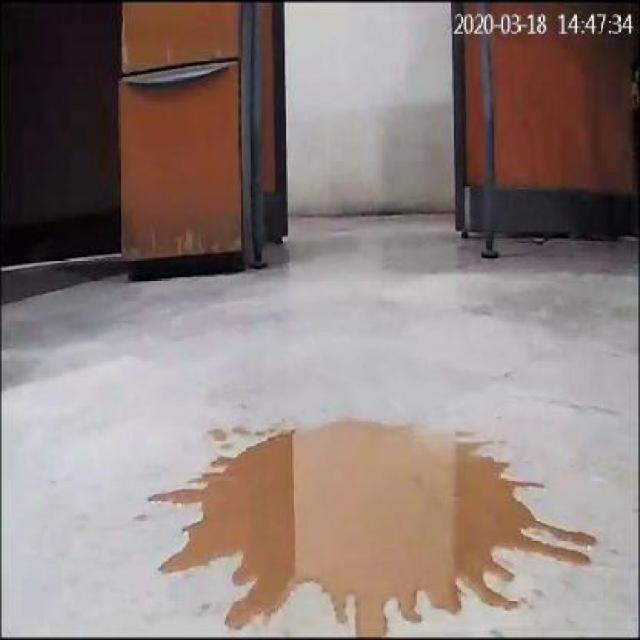spill: (142, 412, 602, 632)
